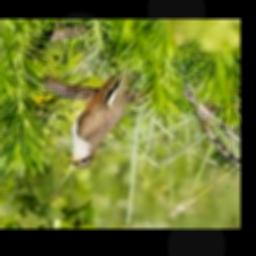Cuckoo: (66, 67, 131, 168)
